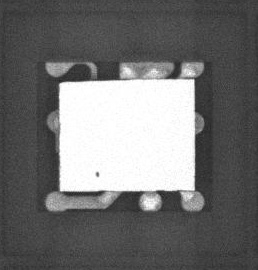DIE_INK: (90, 177, 96, 187)
